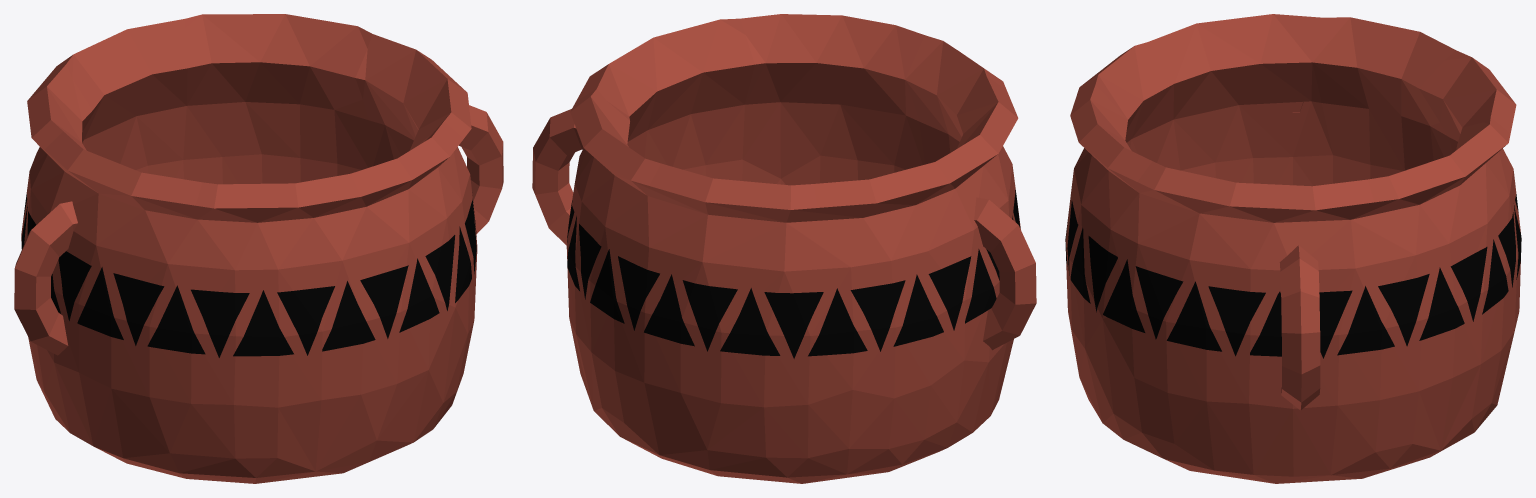
File: Pottery 22_3b.fbx
3 views of the same model, side by side, from view 1: azimuth 30°, elevation 25°; view 2: azimuth 150°, elevation 25°; view 3: azimuth 270°, elevation 25° (orthographic).
Parts seen in each view (by area): view 1: Pottery 22_3b.007, Pottery 22_3b.001, Pottery 22_3b.003, Pottery 22_3b.006, Pottery 22_3b, Pottery 22_3b.002, Pottery 22_3b.004, Pottery 22_3b.005; view 2: Pottery 22_3b, Pottery 22_3b.004, Pottery 22_3b.005, Pottery 22_3b.001, Pottery 22_3b.002, Pottery 22_3b.003, Pottery 22_3b.006, Pottery 22_3b.007; view 3: Pottery 22_3b.002, Pottery 22_3b.003, Pottery 22_3b.006, Pottery 22_3b, Pottery 22_3b.001, Pottery 22_3b.005, Pottery 22_3b.004, Pottery 22_3b.007.
Part boxes in pixels (left/top/right/bottom): Pottery 22_3b.007: left=130, top=179, right=360, bottom=407; Pottery 22_3b.001: left=314, top=121, right=469, bottom=407; Pottery 22_3b.003: left=183, top=14, right=372, bottom=184; Pottery 22_3b.006: left=14, top=131, right=202, bottom=388; Pottery 22_3b: left=28, top=181, right=470, bottom=483; Pottery 22_3b.002: left=355, top=34, right=503, bottom=337; Pottery 22_3b.004: left=48, top=18, right=198, bottom=181; Pottery 22_3b.005: left=21, top=64, right=92, bottom=248; Pottery 22_3b: left=569, top=320, right=1013, bottom=483; Pottery 22_3b.004: left=632, top=163, right=830, bottom=416; Pottery 22_3b.005: left=810, top=153, right=966, bottom=398; Pottery 22_3b.001: left=741, top=14, right=925, bottom=185; Pottery 22_3b.002: left=532, top=18, right=754, bottom=245; Pottery 22_3b.003: left=566, top=89, right=672, bottom=375; Pottery 22_3b.006: left=950, top=76, right=1036, bottom=362; Pottery 22_3b.007: left=905, top=35, right=1006, bottom=164; Pottery 22_3b.002: left=1131, top=161, right=1382, bottom=436; Pottery 22_3b.003: left=1367, top=117, right=1517, bottom=402; Pottery 22_3b.006: left=1148, top=14, right=1332, bottom=186; Pottery 22_3b: left=1069, top=291, right=1516, bottom=483; Pottery 22_3b.001: left=1065, top=84, right=1152, bottom=401; Pottery 22_3b.005: left=1312, top=17, right=1455, bottom=183; Pottery 22_3b.004: left=1419, top=50, right=1521, bottom=321; Pottery 22_3b.007: left=1076, top=42, right=1180, bottom=170.
Size of the model in its own units: 64.97 by 39.4 by 51.68.
